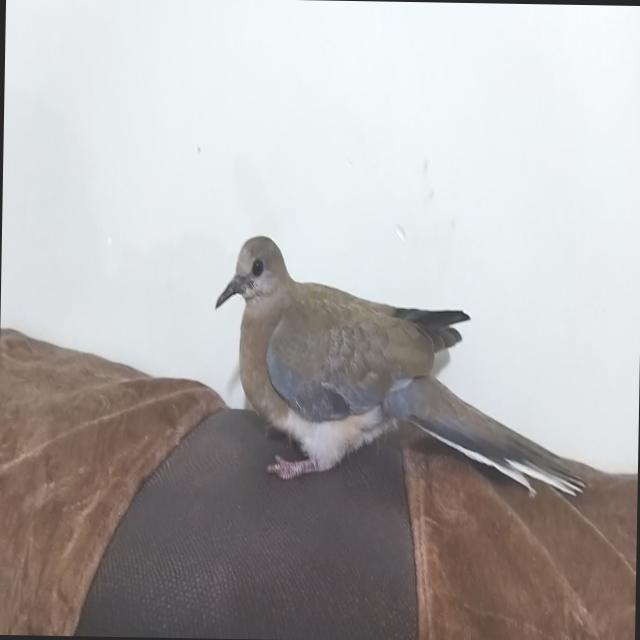bird: (207, 232, 591, 506)
